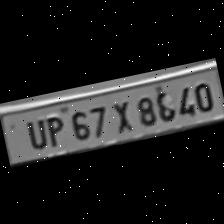0: (188, 76, 215, 114)
4: (170, 80, 196, 118)
6: (62, 104, 92, 142)
7: (84, 100, 110, 138)
8: (128, 90, 158, 128)
P: (39, 112, 66, 148)
U: (18, 114, 47, 150)
X: (102, 96, 134, 134)
